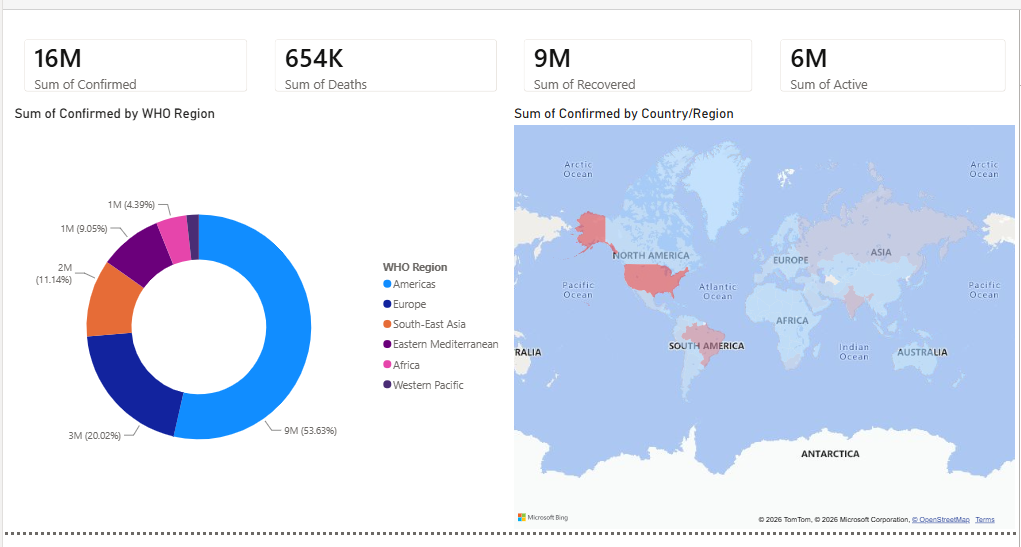

This screenshot's page, from the dashboard's own definition file:
{"tool":"powerbi","page":{"name":"Situation Overview","canvas":[1280,720],"ordinal":0},"visuals":[{"type":"cardVisual","fields":{"Data":["Sum(country_wise_latest.Confirmed)"]},"box":[9.6,81,315.6,100.2],"z":0},{"type":"cardVisual","fields":{"Data":["Sum(country_wise_latest.Deaths)"]},"box":[325.2,81,314.2,100.2],"z":1000},{"type":"cardVisual","fields":{"Data":["Sum(country_wise_latest.Recovered)"]},"box":[639.5,81,322.5,100.2],"z":2000},{"type":"cardVisual","fields":{"Data":["Sum(country_wise_latest.Active)"]},"box":[961.9,81,318.4,100.2],"z":3000},{"type":"donutChart","fields":{"Category":["country_wise_latest.WHO Region"],"Y":["Sum(country_wise_latest.Confirmed)"]},"box":[9.6,181.1,629.8,539.3],"z":4000},{"type":"filledMap","fields":{"Category":["country_wise_latest.Country/Region"]},"box":[639.5,181.1,640.8,539.3],"z":5000},{"type":"textbox","box":[0,0,1280.3,81],"z":5001}]}

Visuals, with their boxes on the page's 1280x720 design canvas (x1, y1, x2, y2). These are canvas units, not pixel positions in the 1021x547 screenshot, which may show the page scaled, cropped or inside an application window:
cardVisual - Sum(country_wise_latest.Confirmed): pyautogui.locateOnScreen(10, 81, 325, 181)
cardVisual - Sum(country_wise_latest.Deaths): pyautogui.locateOnScreen(325, 81, 639, 181)
cardVisual - Sum(country_wise_latest.Recovered): pyautogui.locateOnScreen(640, 81, 962, 181)
cardVisual - Sum(country_wise_latest.Active): pyautogui.locateOnScreen(962, 81, 1280, 181)
donutChart - country_wise_latest.WHO Region x Sum(country_wise_latest.Confirmed): pyautogui.locateOnScreen(10, 181, 639, 720)
filledMap - country_wise_latest.Country/Region: pyautogui.locateOnScreen(640, 181, 1280, 720)
textbox: pyautogui.locateOnScreen(0, 0, 1280, 81)
